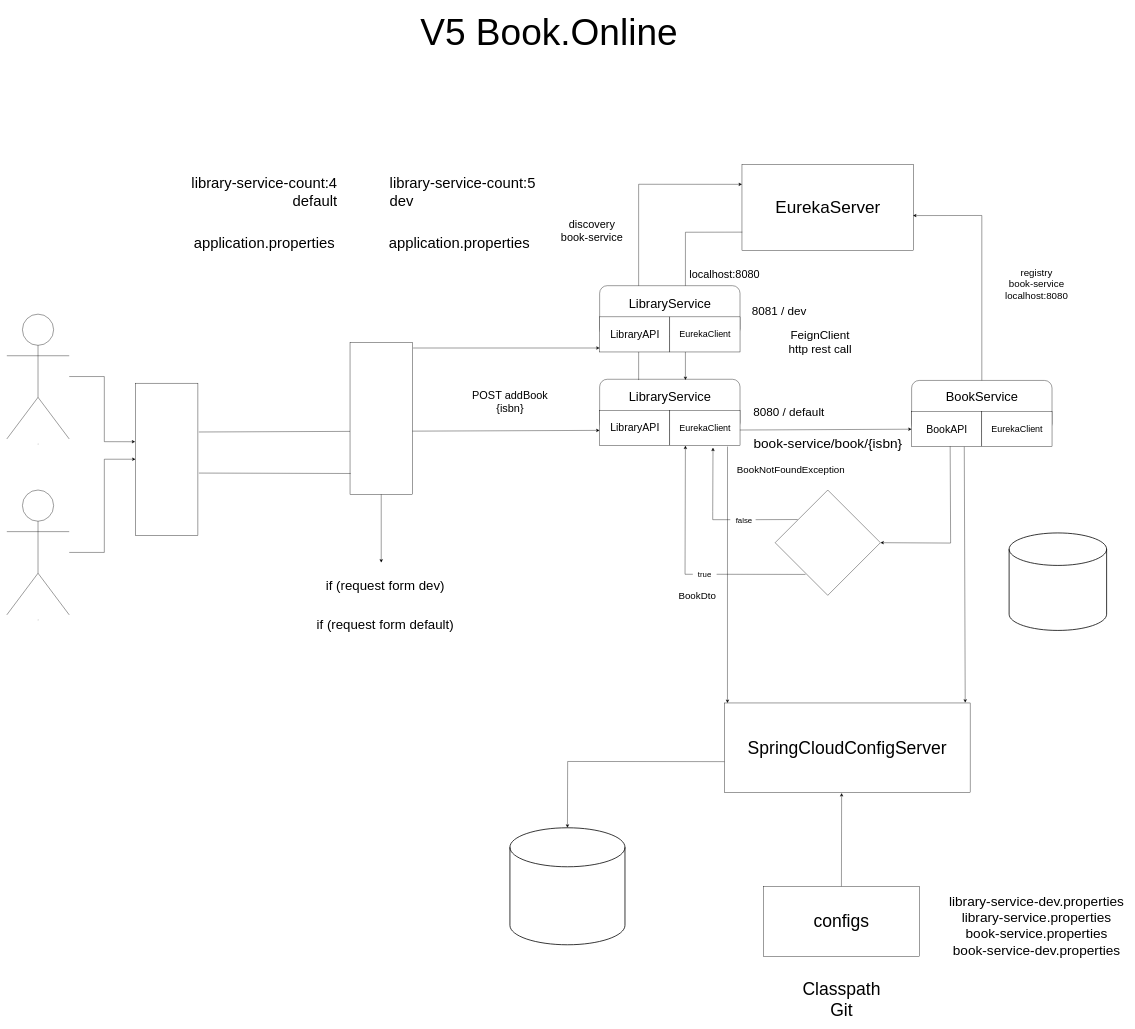
Image size: 1135x1029. Some labels were removed from this diagram. Each missing label, with the centre of its shape:
"API GATEWAY" goes at point 381,418.
"BookDB" goes at point 1058,581.
"isIsbnExist" goes at point 827,542.
"Vault" goes at point 567,886.
"WebUI Mobile" goes at point 166,459.
